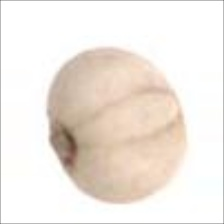L5: (69, 86, 185, 153), (46, 115, 86, 172), (157, 74, 191, 141)
L6: (43, 44, 193, 207)
